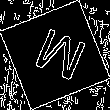M_SW: (24, 23, 86, 87)
